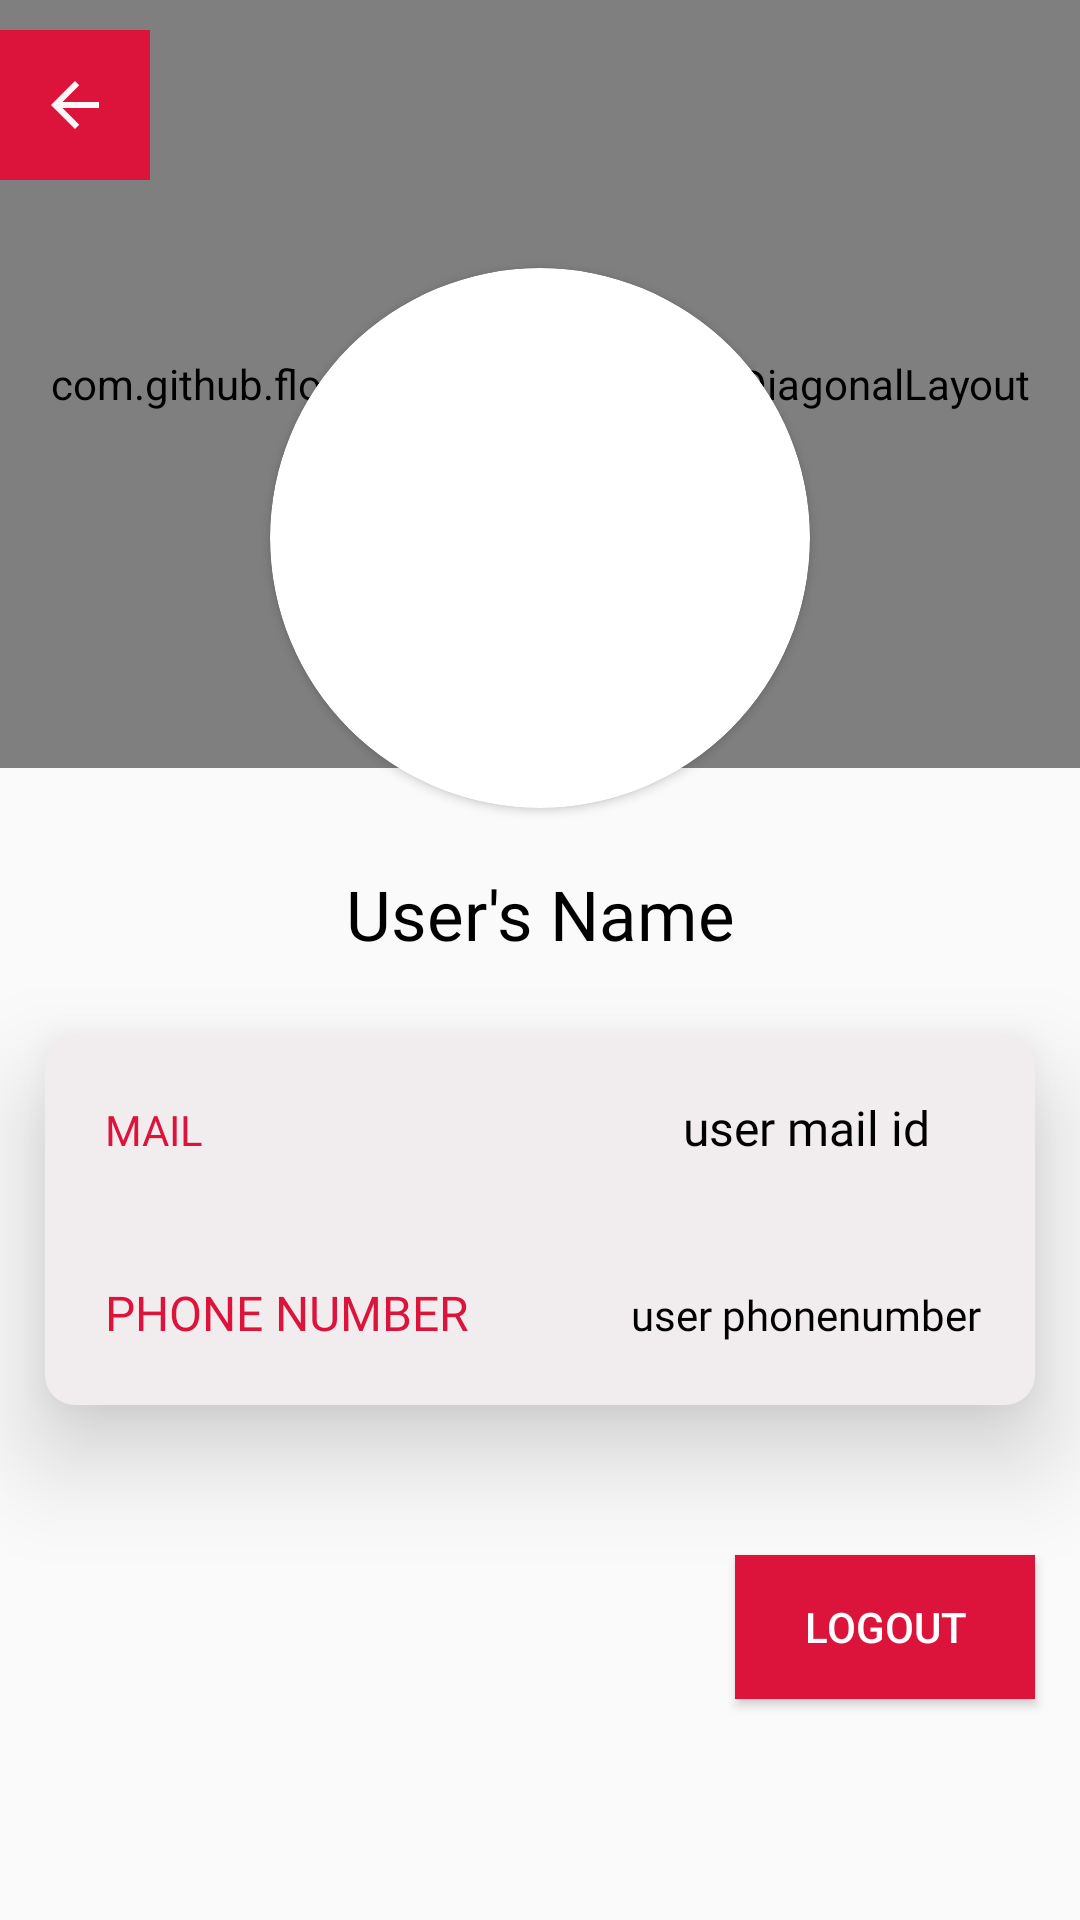

Screen size 1080px x 1920px. Icon name, then its center in pixels as (x=x, y=y):
back: (x=75, y=105)
